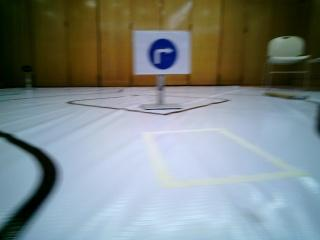right: (136, 28, 192, 76)
